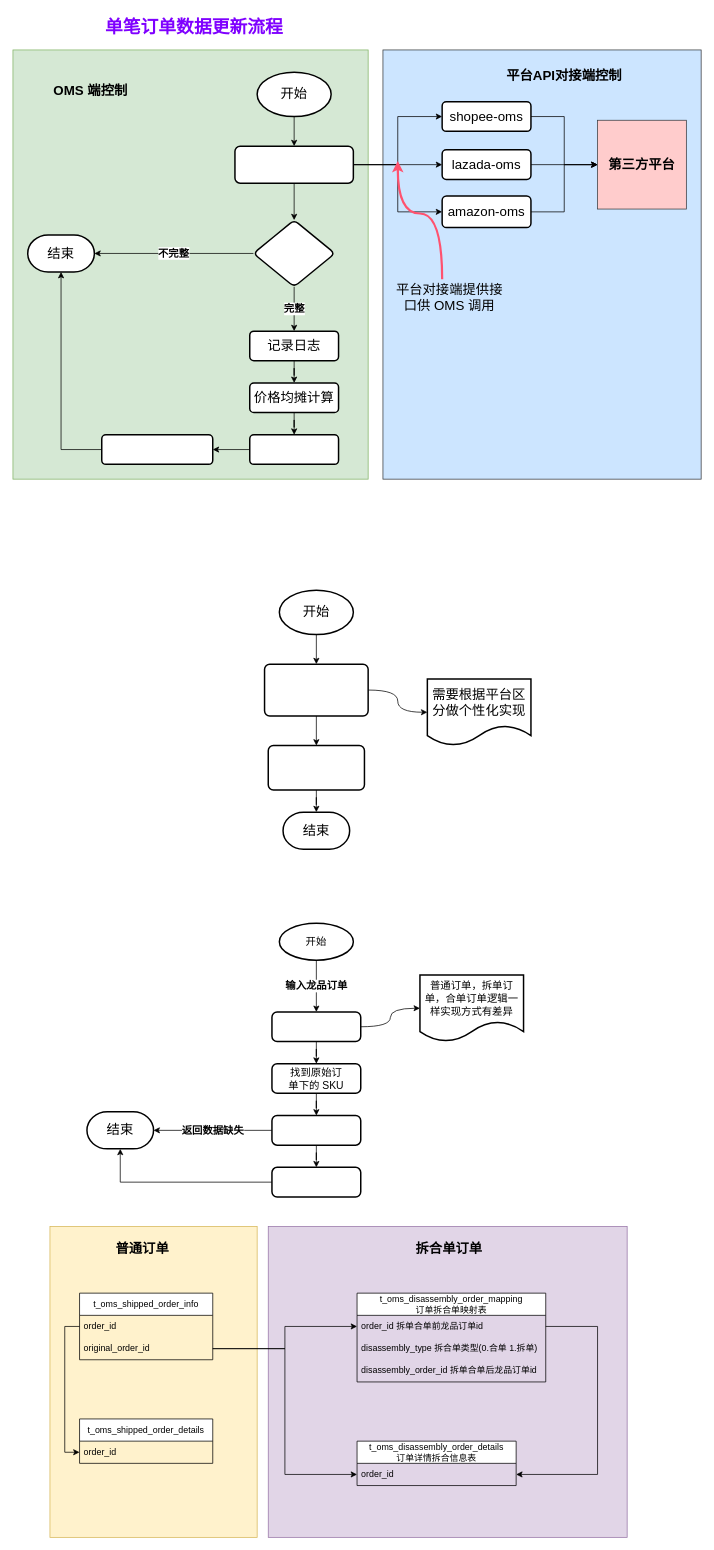
The diagram is 714 pixels wide and 1550 high, and some of its shapes have lost their labels. Here are the shapes that lost their labels. From the top down, the centre of each, then its label:
point 294,164: 同步平台订单信息
point 293,253: 获取数据 是否完整
point 157,449: 标记订单更新成功
point 294,449: 利润率计算
point 316,689: 根据筛选规则不同提供订单数据
point 316,767: 单笔订单数据 更新流程
point 316,1026: 根据龙品订单找 平台原始订单
point 316,1130: 调用平台 API
point 316,1181: 计算均摊金额
